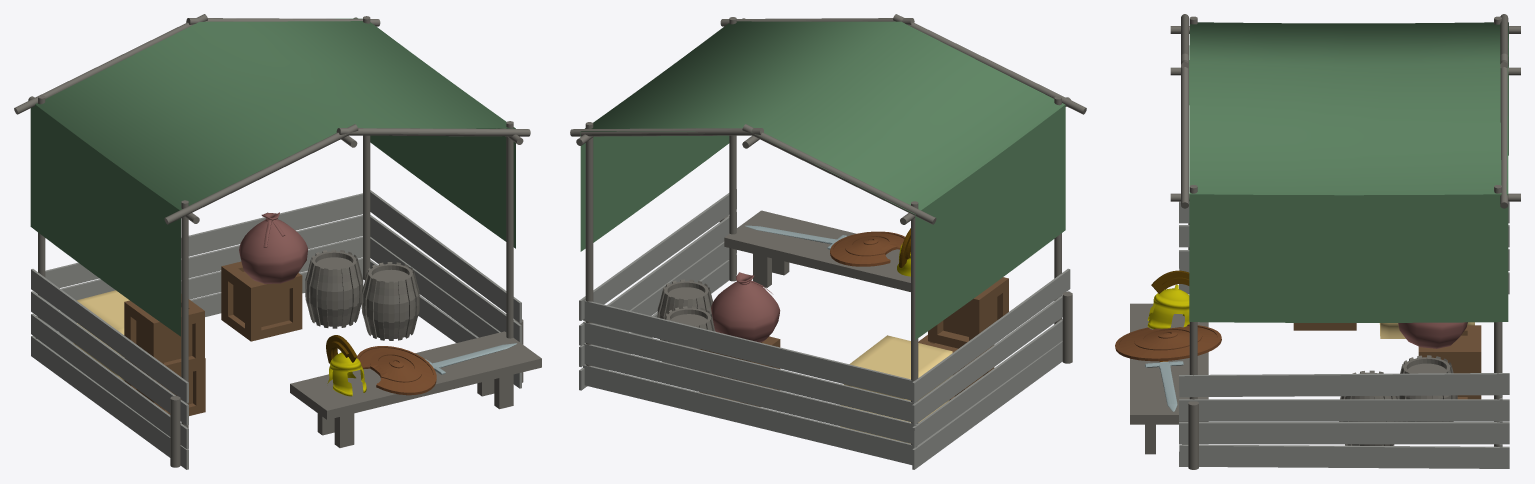
The model's file is merchant-post3.dae.
3 renders of one model, left to right at view 1: azimuth 30°, elevation 25°; view 2: azimuth 150°, elevation 25°; view 3: azimuth 270°, elevation 25°, orthographic. The views are drawn at different scales.
Visible parts, largest first — view 1: Plane, table, crate_001, Cube_003, barrel_001, barrel, Cube_011, bag, crate_002, Cube_010, Cube_009, Cube_004 (+21 smaller); view 2: Plane, Cube_001, Cube_002, Cube, Cube_003, table, Cube_011, Cube_010, Cube_009, bag, Cube_008, Cube_004 (+17 smaller); view 3: Plane, Cube_004, Cube_005, Cube_006, Cube_007, table, shield, crate_001, bag, helmet, pole_011, barrel (+8 smaller).
Boxes of the visible parts, left/top/right/bottom form: Plane: left=30, top=18, right=515, bottom=336; table: left=290, top=331, right=541, bottom=447; crate_001: left=221, top=261, right=302, bottom=341; Cube_003: left=45, top=193, right=362, bottom=287; barrel_001: left=361, top=262, right=419, bottom=340; barrel: left=305, top=249, right=363, bottom=328; Cube_011: left=31, top=269, right=188, bottom=402; bag: left=239, top=212, right=307, bottom=283; crate_002: left=124, top=294, right=204, bottom=371; Cube_010: left=31, top=291, right=188, bottom=425; Cube_009: left=31, top=313, right=188, bottom=448; Cube_004: left=370, top=190, right=521, bottom=322; Plane: left=580, top=21, right=1065, bottom=339; Cube_001: left=583, top=343, right=917, bottom=443; Cube_002: left=583, top=321, right=914, bottom=422; Cube: left=583, top=364, right=917, bottom=464; Cube_003: left=583, top=300, right=913, bottom=400; table: left=724, top=210, right=910, bottom=291; Cube_011: left=912, top=268, right=1070, bottom=402; Cube_010: left=912, top=291, right=1069, bottom=425; Cube_009: left=912, top=319, right=1062, bottom=447; bag: left=711, top=272, right=780, bottom=342; Cube_008: left=912, top=341, right=1062, bottom=469; Cube_004: left=579, top=189, right=736, bottom=320; Plane: left=1189, top=22, right=1508, bottom=322; Cube_004: left=1179, top=373, right=1509, bottom=397; Cube_005: left=1179, top=399, right=1509, bottom=421; Cube_006: left=1179, top=422, right=1509, bottom=444; Cube_007: left=1179, top=444, right=1509, bottom=468; table: left=1130, top=303, right=1208, bottom=454; shield: left=1115, top=324, right=1221, bottom=361; crate_001: left=1418, top=325, right=1481, bottom=399; bag: left=1398, top=322, right=1467, bottom=348; helmet: left=1147, top=284, right=1189, bottom=329; pole_011: left=1181, top=53, right=1188, bottom=208; barrel: left=1398, top=355, right=1457, bottom=421.
Bounding box in the file's own units: 2.34 × 2.13 × 1.86.
